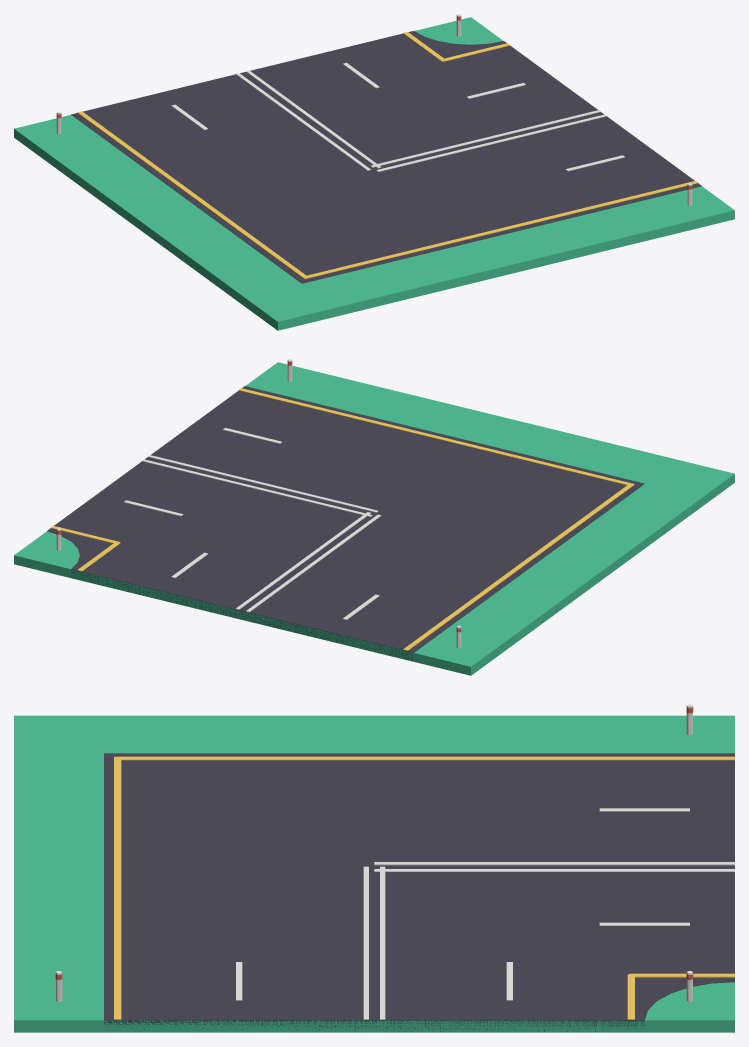
Rendered from hwy_corner.glb.
3 views of the same model, one above another, from view 1: azimuth 30°, elevation 25°; view 2: azimuth 150°, elevation 25°; view 3: azimuth 270°, elevation 25° (orthographic). The views are drawn at different scales.
Parts seen in each view (by area): view 1: hwy_corner; view 2: hwy_corner; view 3: hwy_corner.
Boxes of the visible parts, x1=… form: hwy_corner: x1=14, y1=14, x2=734, y2=330; hwy_corner: x1=14, y1=359, x2=734, y2=675; hwy_corner: x1=14, y1=704, x2=734, y2=1032.
Size of the model in its own units: 16 by 1.01 by 16.
